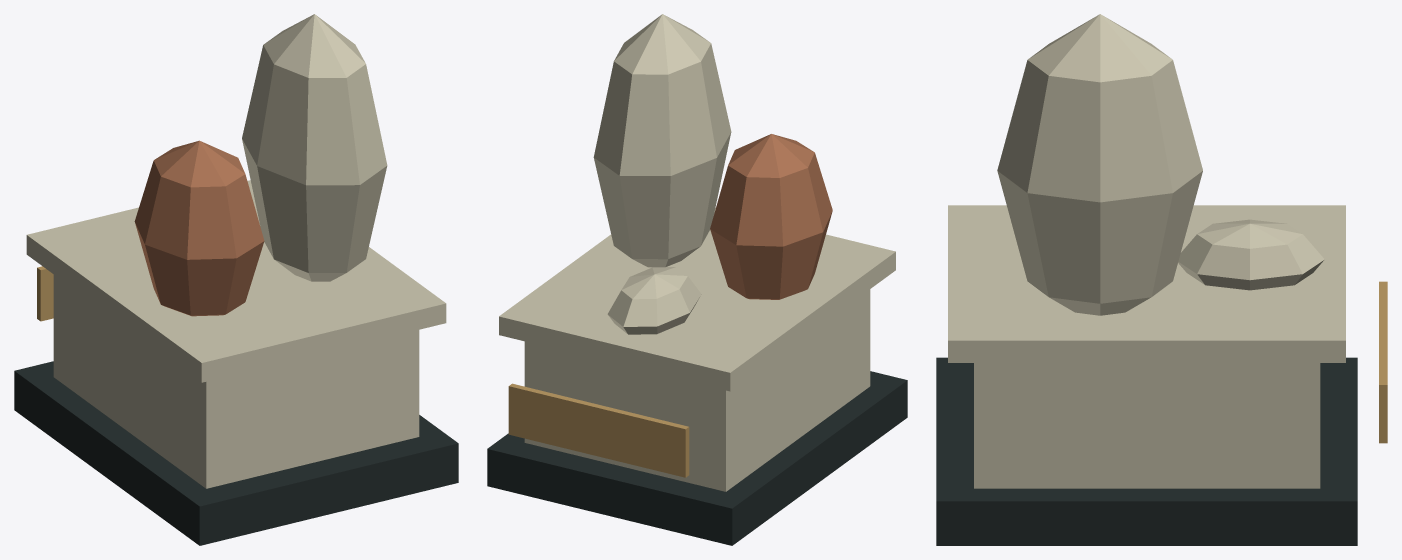
Rendered from LP_StoneAge_StandingStones.fbx.
3 views of the same model, side by side, from view 1: azimuth 30°, elevation 25°; view 2: azimuth 150°, elevation 25°; view 3: azimuth 270°, elevation 25° (orthographic). The views are drawn at different scales.
Parts seen in each view (by area): view 1: M_Central_Limestone, Charcoal, Terracotta, AgedBrass; view 2: M_Central_Limestone, Charcoal, Terracotta, AgedBrass; view 3: M_Central_Limestone, Charcoal, AgedBrass.
Boxes of the visible parts, x1,y1,x2,y2 form: M_Central_Limestone: (26,14,446,488); Charcoal: (14,361,458,545); Terracotta: (134,140,264,316); AgedBrass: (37,266,53,321); M_Central_Limestone: (499,14,895,491); Charcoal: (487,371,907,545); Terracotta: (710,134,832,299); AgedBrass: (508,383,689,477); M_Central_Limestone: (948,14,1345,488); Charcoal: (936,357,1357,545); AgedBrass: (1379,281,1387,443).
Size of the model in its own units: 150 by 240 by 199.
